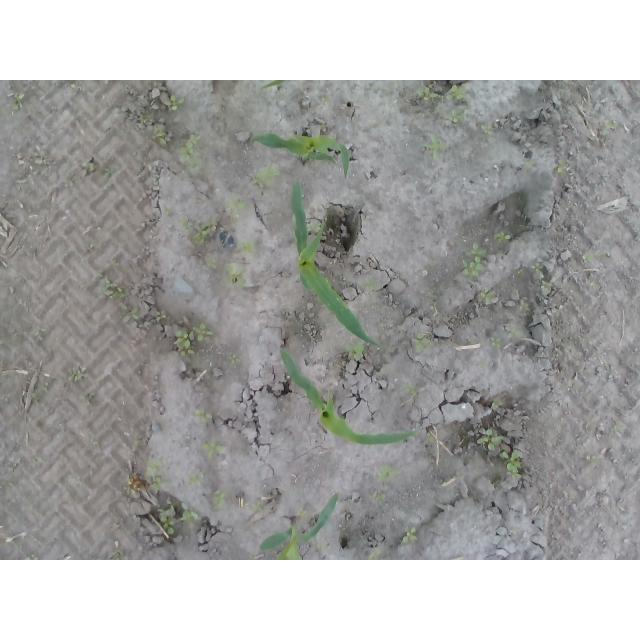Maize: (289, 175, 384, 349), (278, 346, 422, 446), (258, 493, 339, 560), (250, 127, 350, 177), (259, 81, 290, 96)
Weeds: (476, 425, 524, 479), (174, 317, 215, 359), (174, 132, 210, 177), (126, 458, 163, 498), (157, 504, 201, 537), (135, 109, 169, 146), (179, 215, 218, 245), (461, 239, 487, 281), (221, 191, 249, 225), (96, 272, 129, 300), (446, 83, 466, 125), (423, 133, 449, 161), (223, 262, 246, 290), (532, 262, 553, 288), (202, 437, 226, 459), (414, 85, 443, 103), (255, 166, 281, 185), (377, 462, 401, 482), (184, 468, 207, 488), (118, 302, 139, 322), (68, 365, 89, 384), (165, 93, 186, 111), (239, 240, 260, 257), (343, 342, 366, 357), (223, 351, 242, 369), (400, 524, 417, 544), (32, 382, 49, 401), (211, 490, 225, 512), (480, 287, 497, 305), (553, 159, 569, 178), (203, 252, 218, 272), (33, 145, 48, 165), (369, 489, 386, 506), (601, 120, 619, 136), (399, 383, 417, 398), (9, 92, 23, 111), (367, 546, 386, 560), (361, 278, 383, 290), (489, 333, 503, 351), (81, 161, 96, 177), (495, 231, 512, 245), (195, 408, 209, 424), (413, 334, 425, 352), (586, 454, 602, 467), (112, 548, 129, 560), (249, 502, 264, 515), (305, 223, 322, 234), (481, 123, 495, 136), (30, 327, 48, 337), (79, 392, 97, 402), (296, 506, 308, 520), (510, 327, 523, 338), (156, 311, 169, 322), (320, 95, 332, 106), (104, 166, 115, 178), (489, 400, 503, 409), (514, 265, 526, 275), (2, 478, 14, 488), (24, 553, 40, 560), (519, 302, 529, 312), (67, 80, 78, 89), (582, 253, 594, 261), (528, 159, 537, 169), (426, 432, 433, 441), (16, 544, 23, 551)
